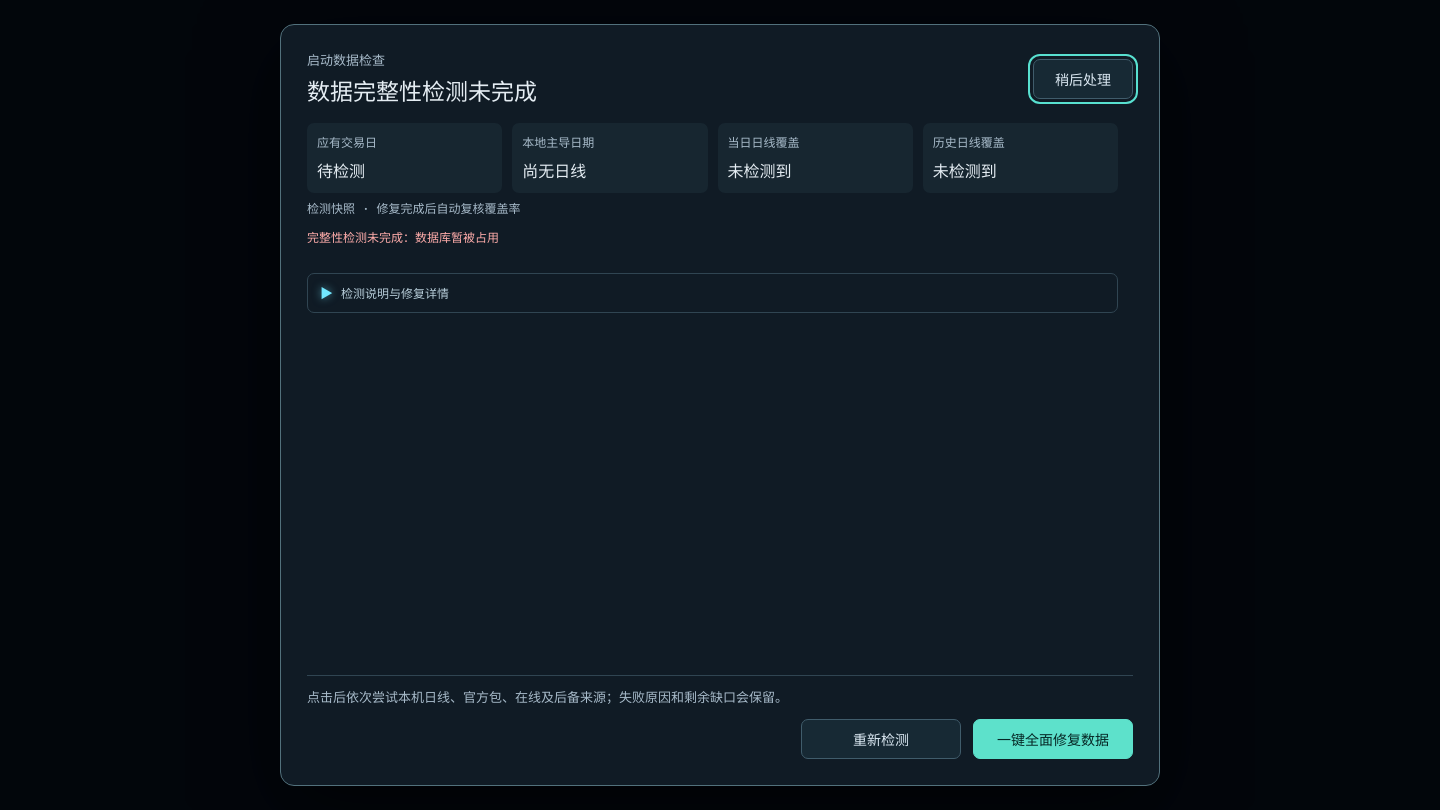
StartupDataIntegrity › reports a check failure accurately and allows a read-only retry
Expected: the message shows "数据库暂被占用", [307, 230, 499, 246]
Expected: the dialog shows "检测未完成", [307, 77, 537, 106]
What coordinates should you click on to do the following:
click the button "重新检测"
I would click on:
 (881, 739)
Its box is [801, 719, 961, 759].
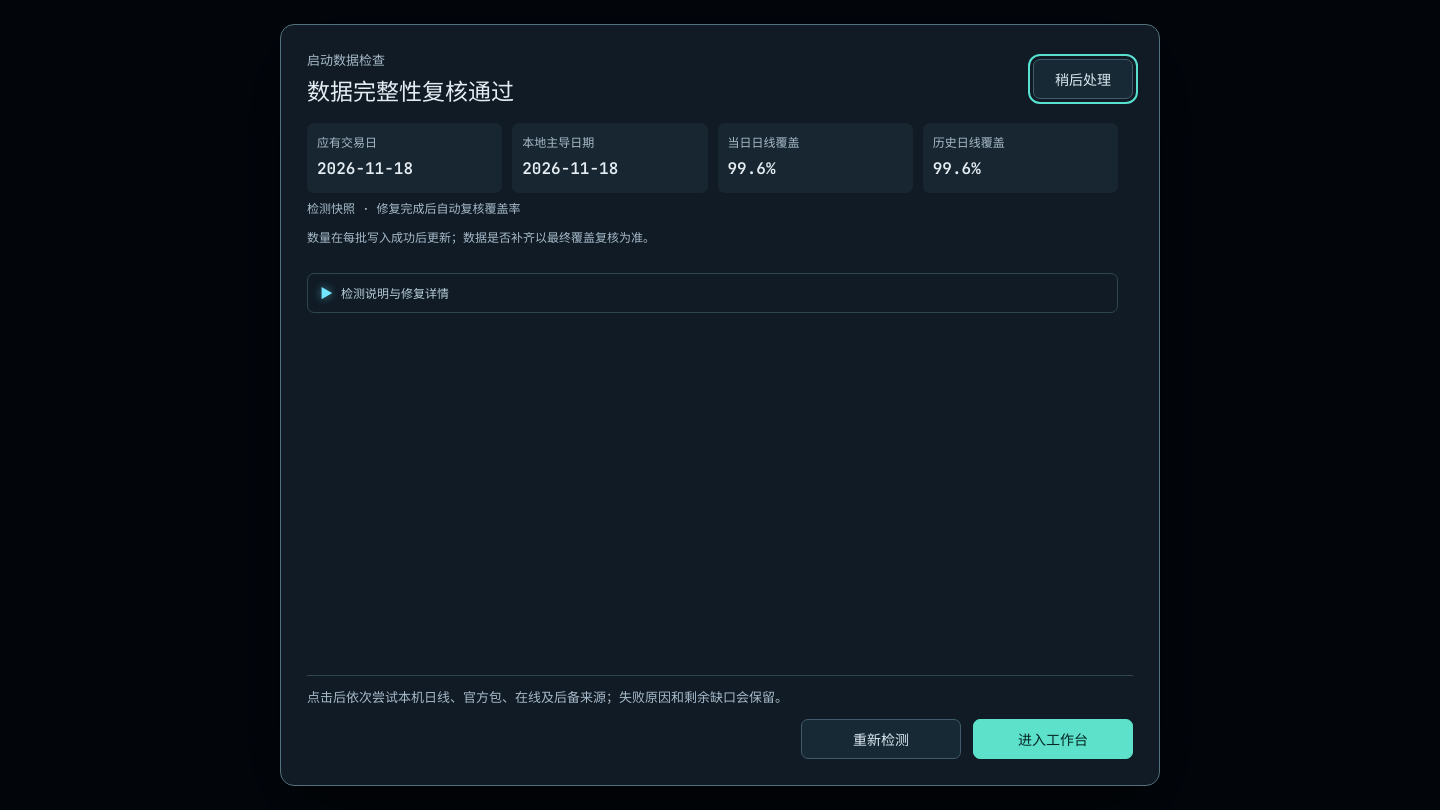
Expected: the heading "数据完整性复核通过" is shown, [307, 77, 514, 107]
